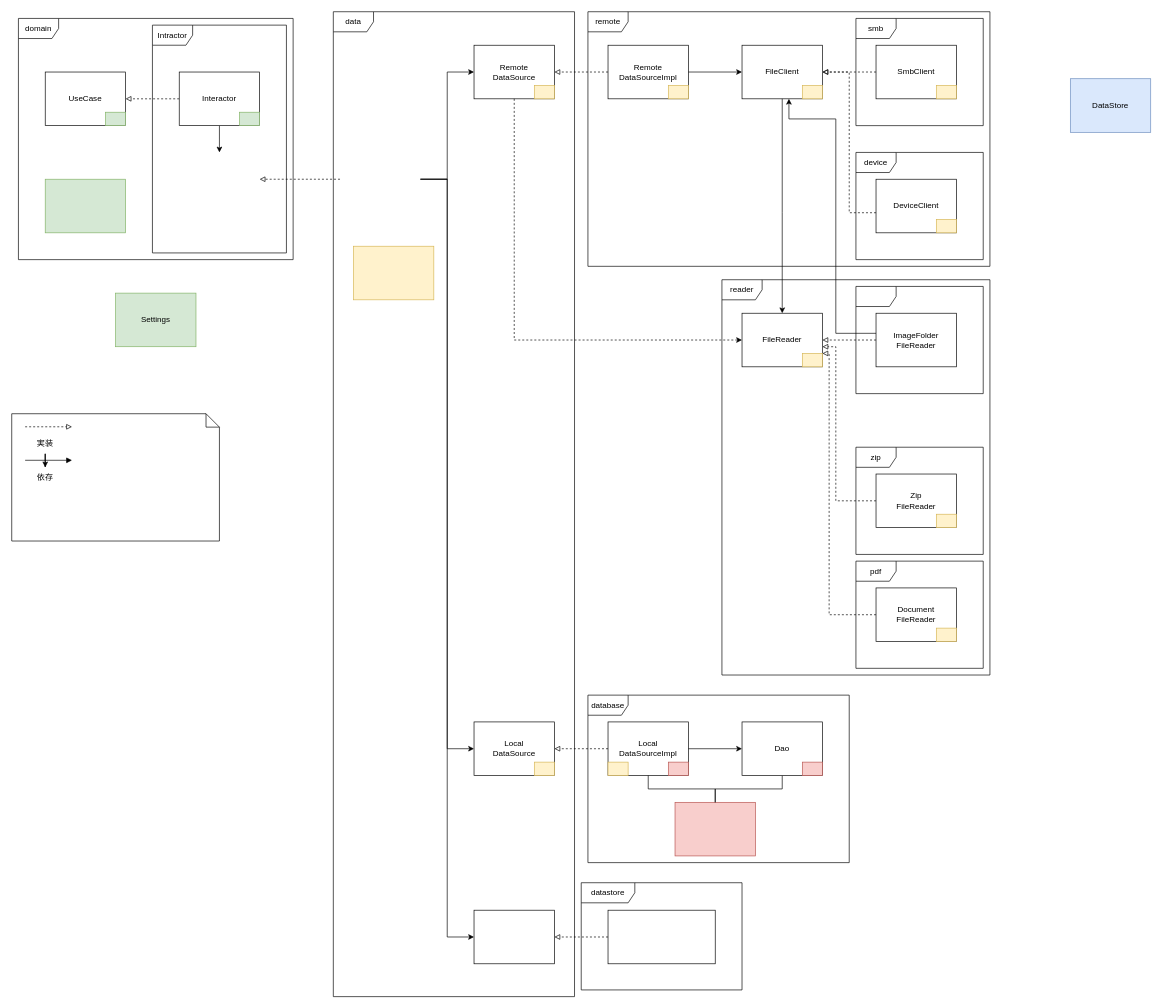
Some shapes in this 1162 by 1008 pixel diagram are drawn without their labels. Each missing label, with the centre of its shape:
"Datastore DataSource" belongs at (x=513, y=937).
"Datastore DataSourceImpl" belongs at (x=661, y=937).
"DB-Entity" belongs at (x=714, y=829).
"Entity" belongs at (x=85, y=206).
"folder" belongs at (x=919, y=340).
"Model" belongs at (x=393, y=273).
